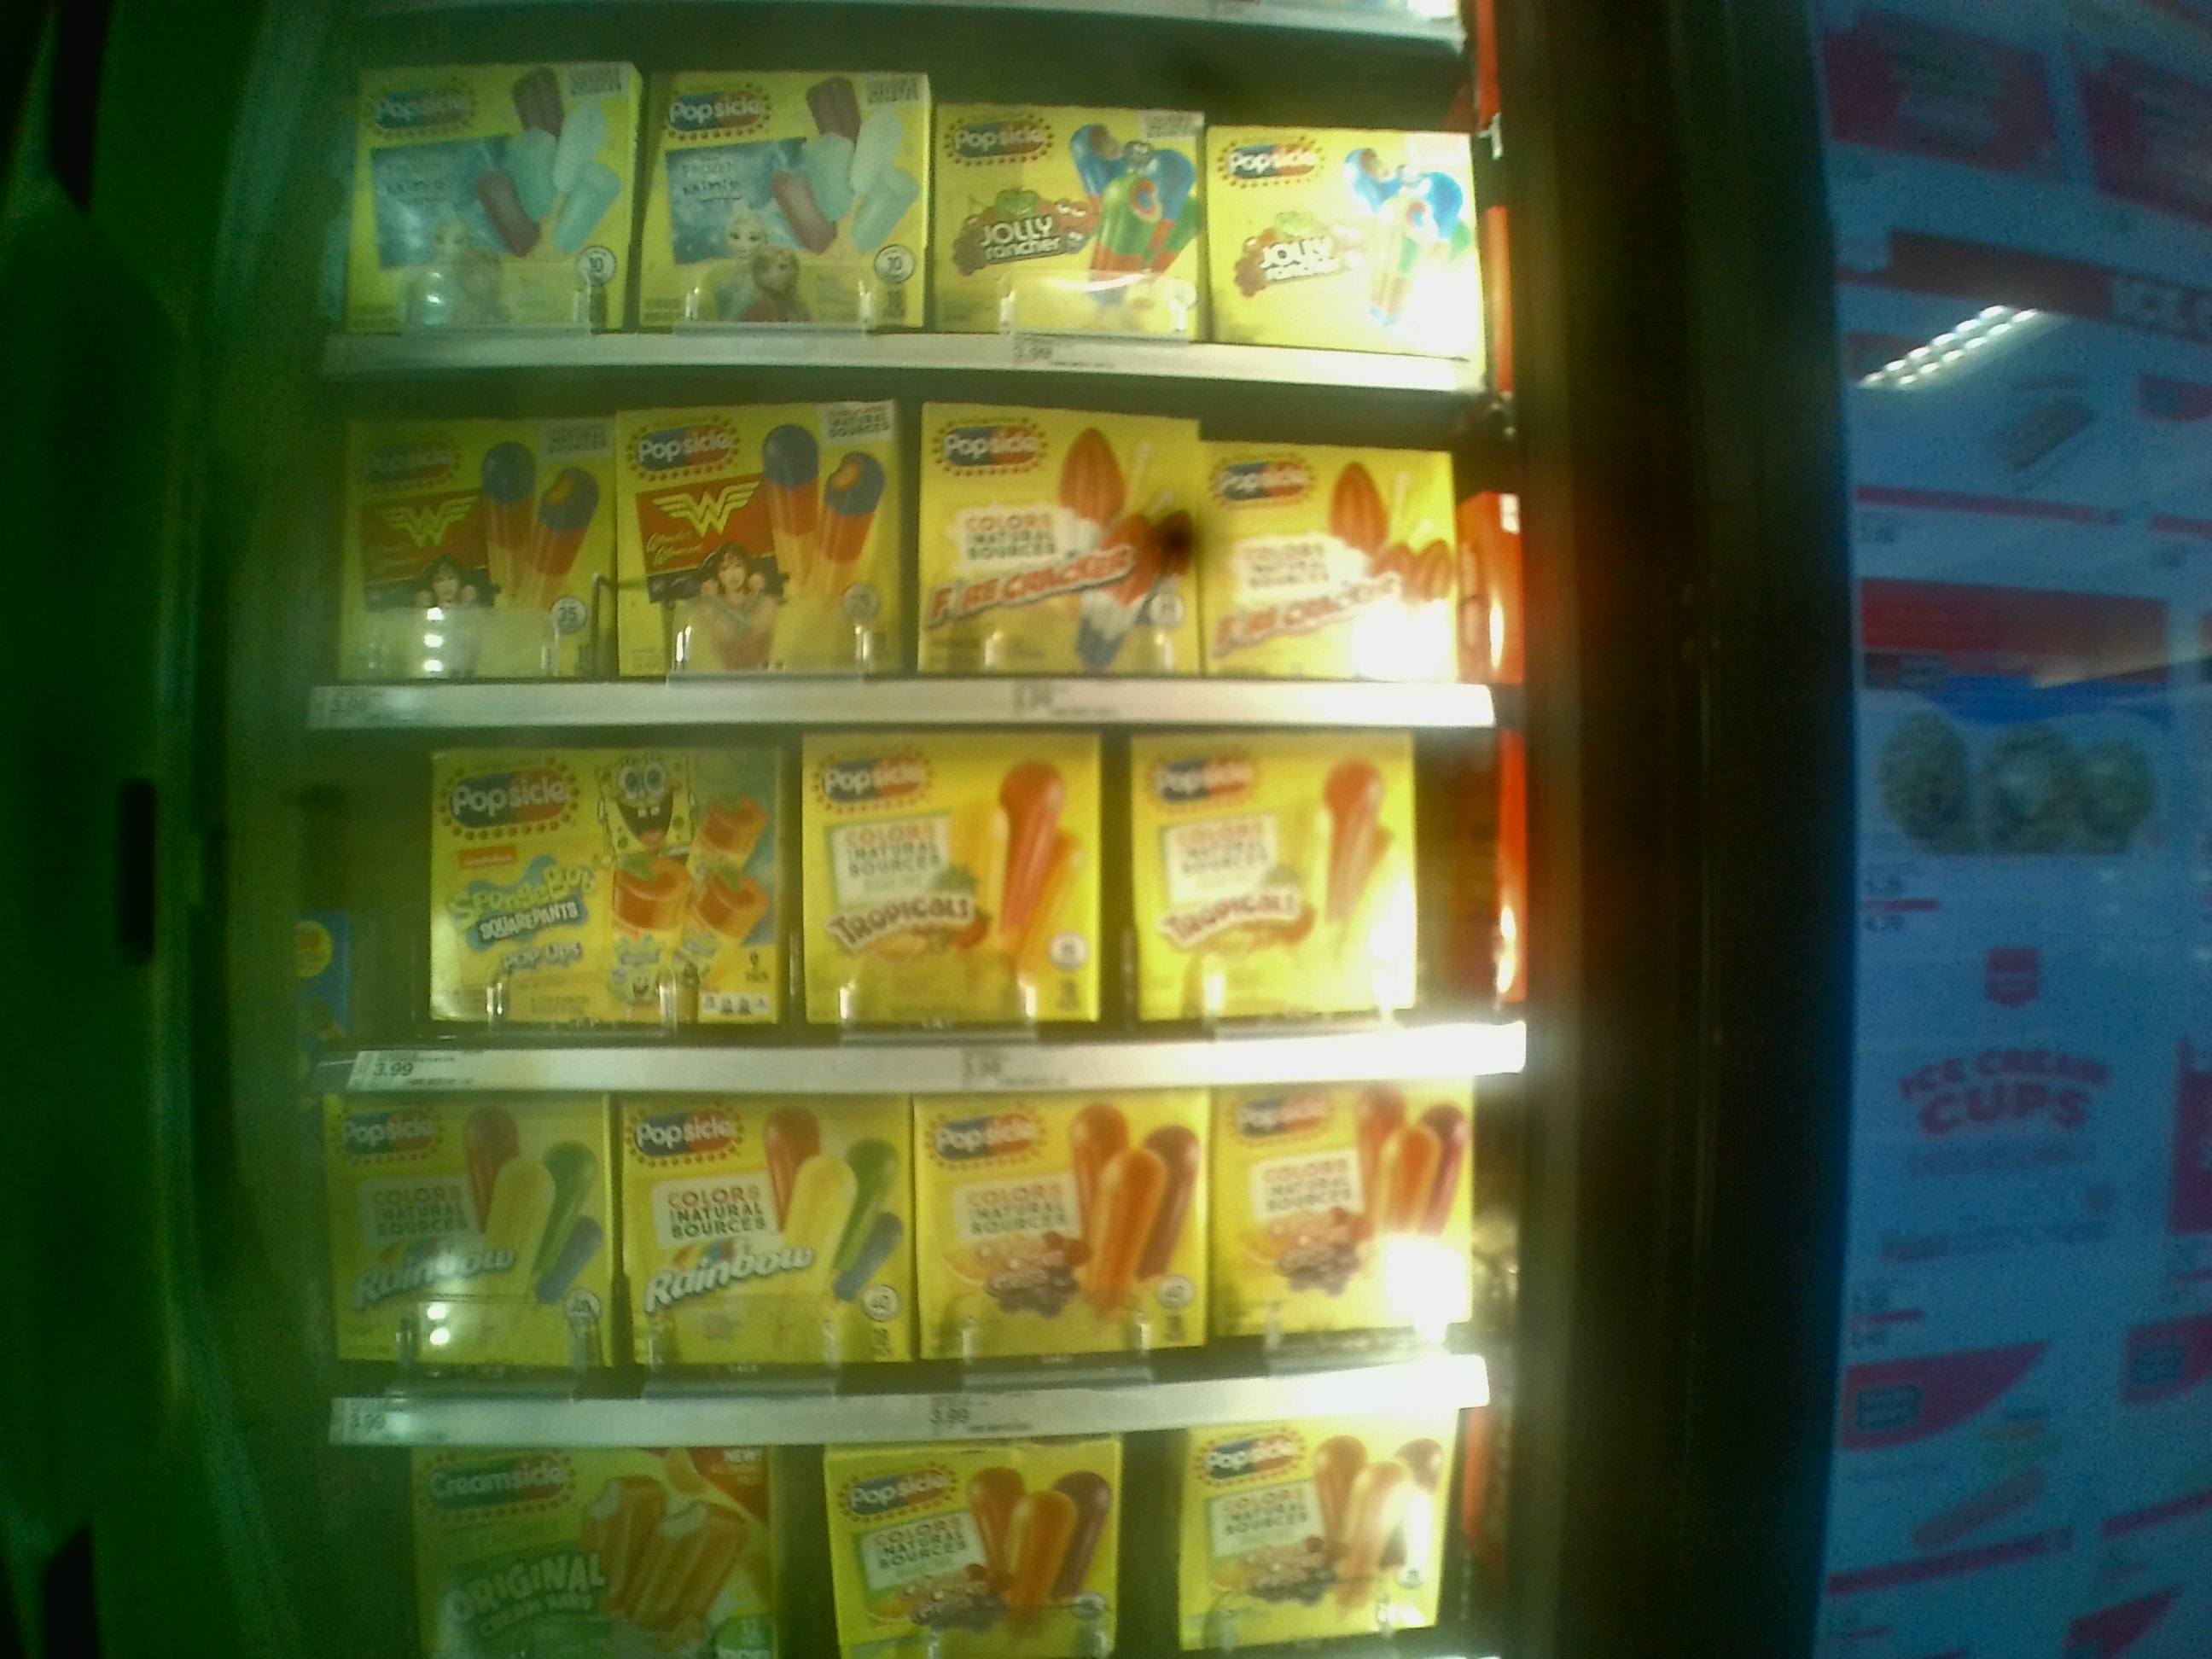shelf: (319, 727, 1529, 1075), (307, 361, 1533, 702), (326, 1094, 1496, 1452)
